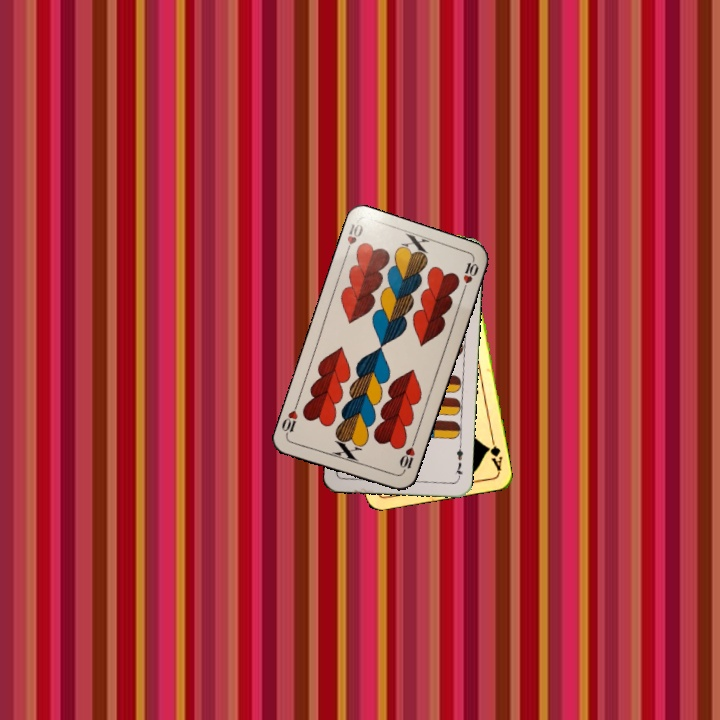E7: (451, 441, 466, 481)
GA: (483, 434, 505, 474)
H10: (340, 219, 366, 258), (395, 436, 418, 476)
